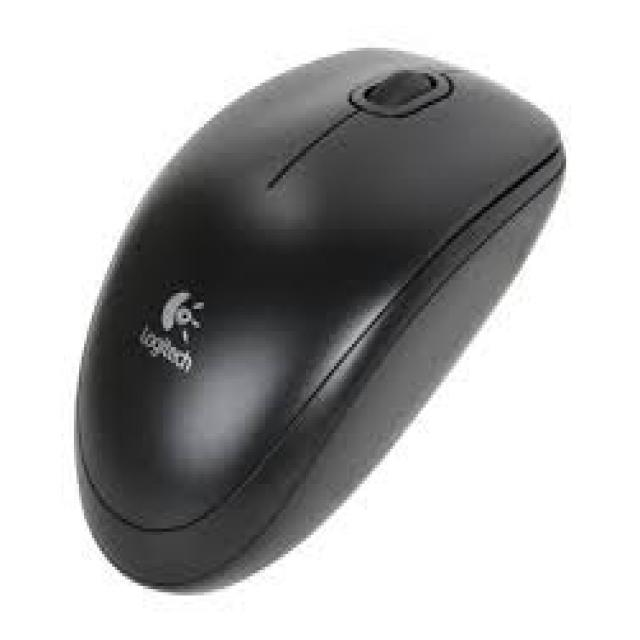others: (69, 22, 584, 592)
